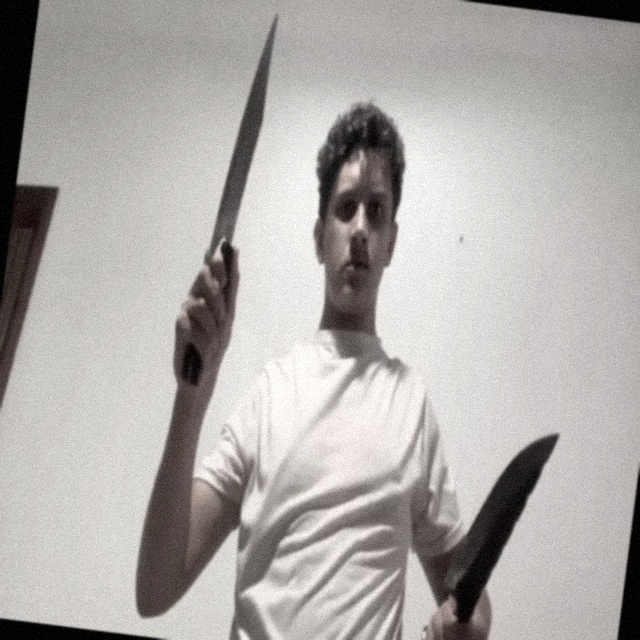Sharp-Object: (441, 417, 561, 605), (209, 8, 283, 259)
